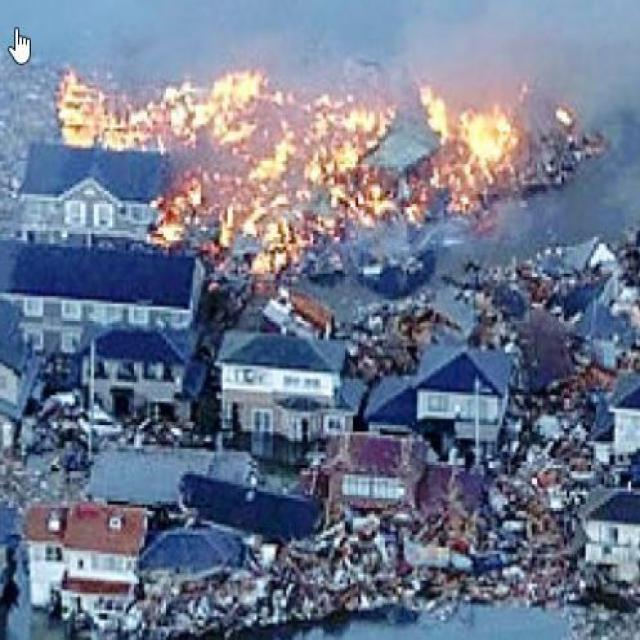Fire: (56, 72, 513, 239)
